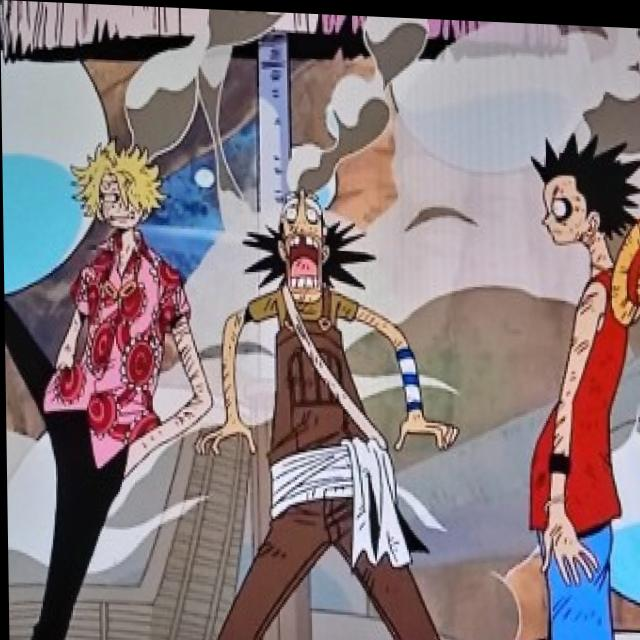Luffy: (527, 115, 640, 308)
Sangdi: (61, 128, 172, 248)
Usopp: (235, 171, 372, 319)
